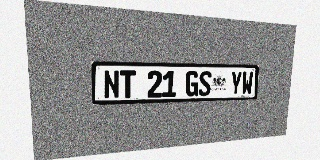1: (162, 70, 176, 97)
2: (147, 70, 162, 98)
G: (185, 71, 199, 96)
N: (103, 70, 120, 99)
S: (198, 71, 212, 96)
T: (120, 70, 136, 98)
W: (241, 71, 253, 95)
Y: (230, 71, 242, 95)
